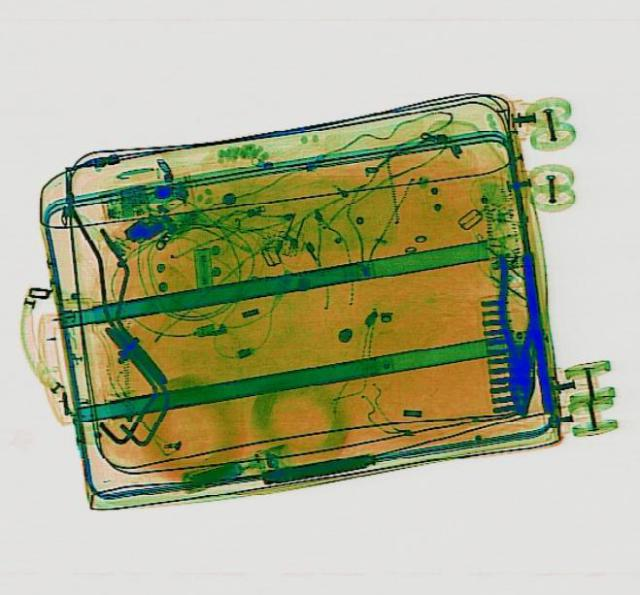Pliers: (492, 249, 544, 416)
